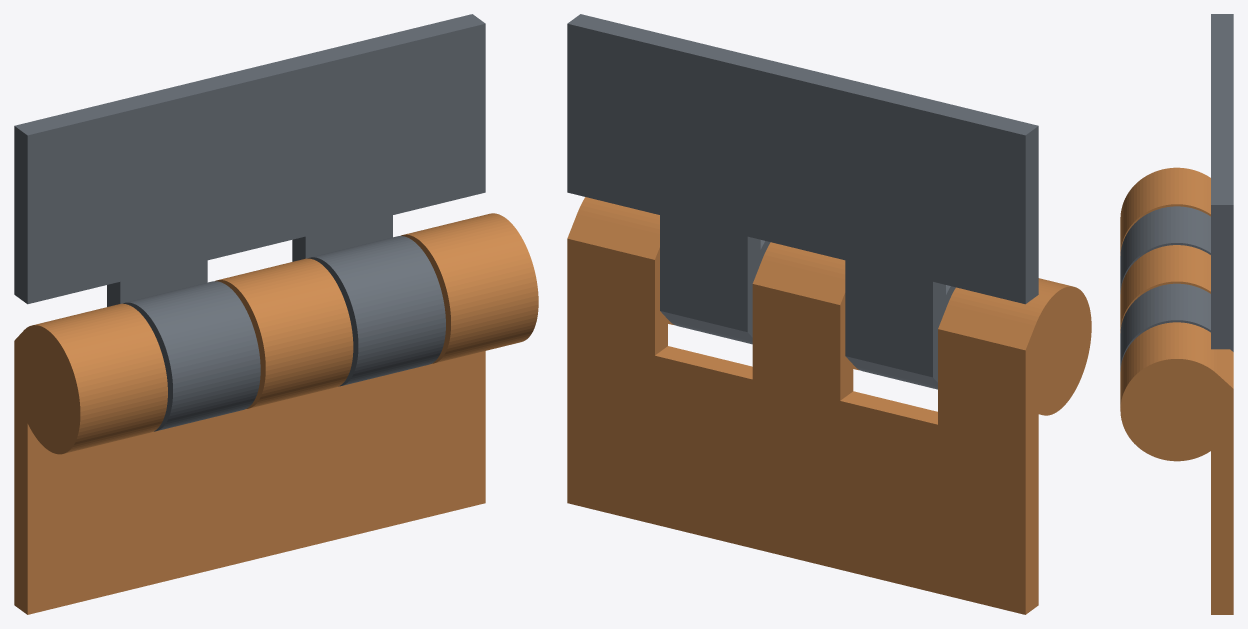
3 renders of one model, left to right at view 1: azimuth 30°, elevation 25°; view 2: azimuth 150°, elevation 25°; view 3: azimuth 270°, elevation 25°, orthographic. The views are drawn at different scales.
Parts seen in each view (by area): view 1: feuille_a, feuille_b; view 2: feuille_a, feuille_b; view 3: feuille_a, feuille_b.
Boxes of the visible parts, box(x1,y1,x2,y2) form: feuille_a: box(14, 213, 538, 614); feuille_b: box(14, 14, 485, 431); feuille_a: box(567, 197, 1091, 614); feuille_b: box(567, 14, 1038, 389); feuille_a: box(1120, 167, 1233, 614); feuille_b: box(1120, 14, 1233, 371).
Bounding box in the file's own units: 40 × 40 × 10.
